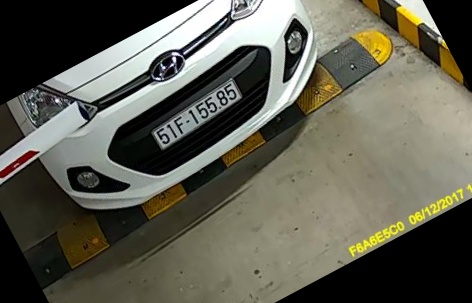plate: (148, 81, 242, 155)
